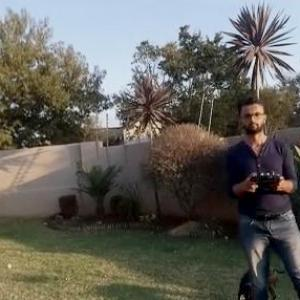follow: (224, 89, 300, 299)
